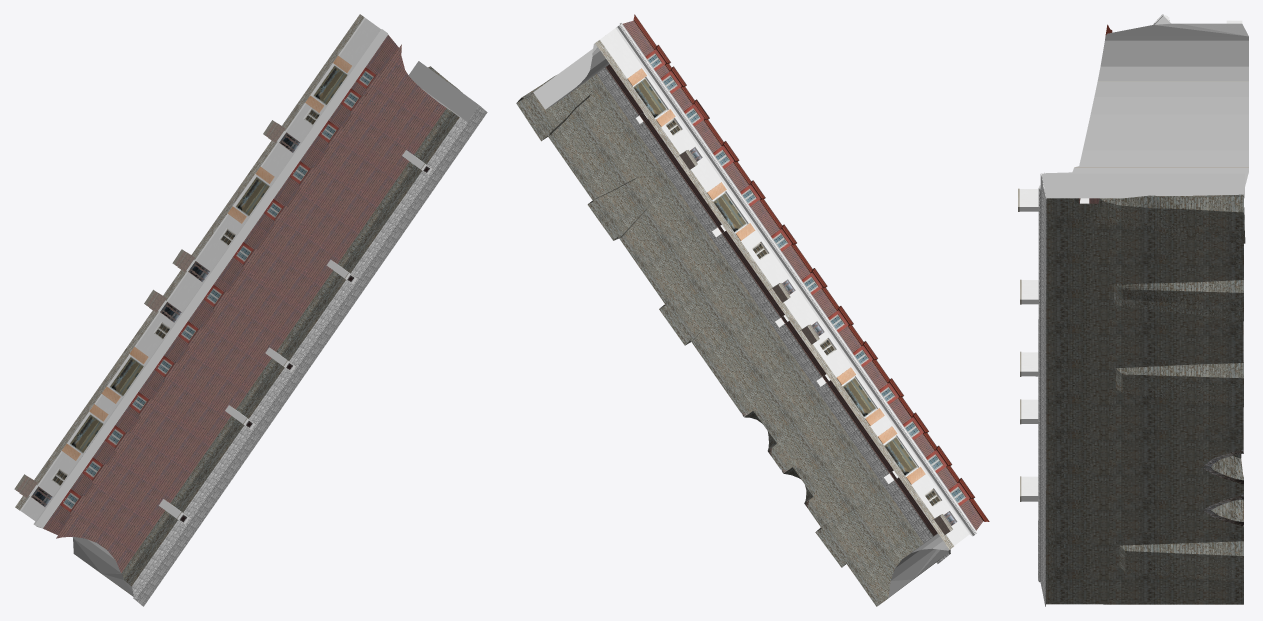
File: Suurtyki_4c_1.obj
The picture shows the model from 3 angles, left to right: view 1: azimuth 30°, elevation 25°; view 2: azimuth 150°, elevation 25°; view 3: azimuth 270°, elevation 25°; orthographic projection. The views are drawn at different scales.
Parts seen in each view (by area): view 1: Suurtyki_4c_1; view 2: Suurtyki_4c_1; view 3: Suurtyki_4c_1.
Part boxes in pixels (x1,y1,x2,y2): Suurtyki_4c_1: (14,14,487,606); Suurtyki_4c_1: (516,14,989,606); Suurtyki_4c_1: (1018,14,1248,606).
Bounding box in the file's own units: 37.84 × 41.33 × 10.58.
